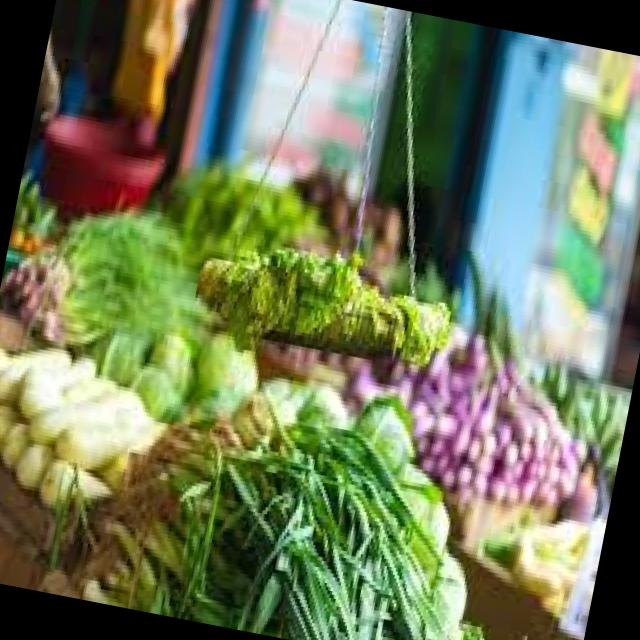organic: (0, 188, 627, 640)
plastic: (40, 115, 164, 219)
